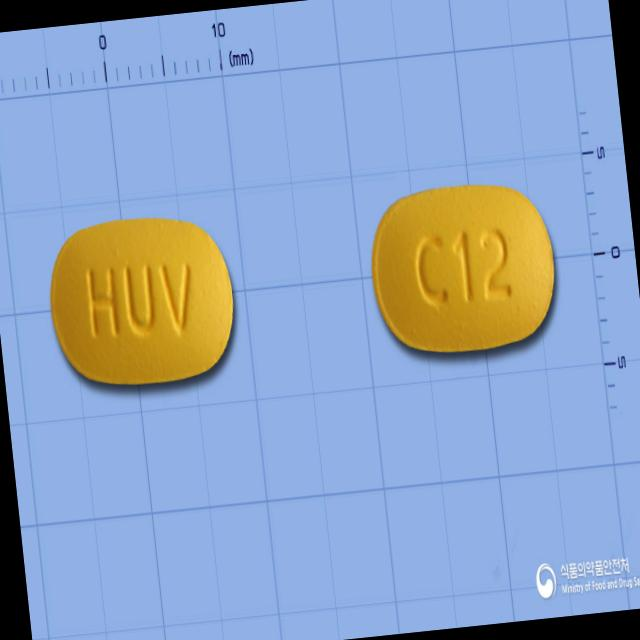Clavit: (42, 204, 246, 401), (361, 172, 566, 368)
